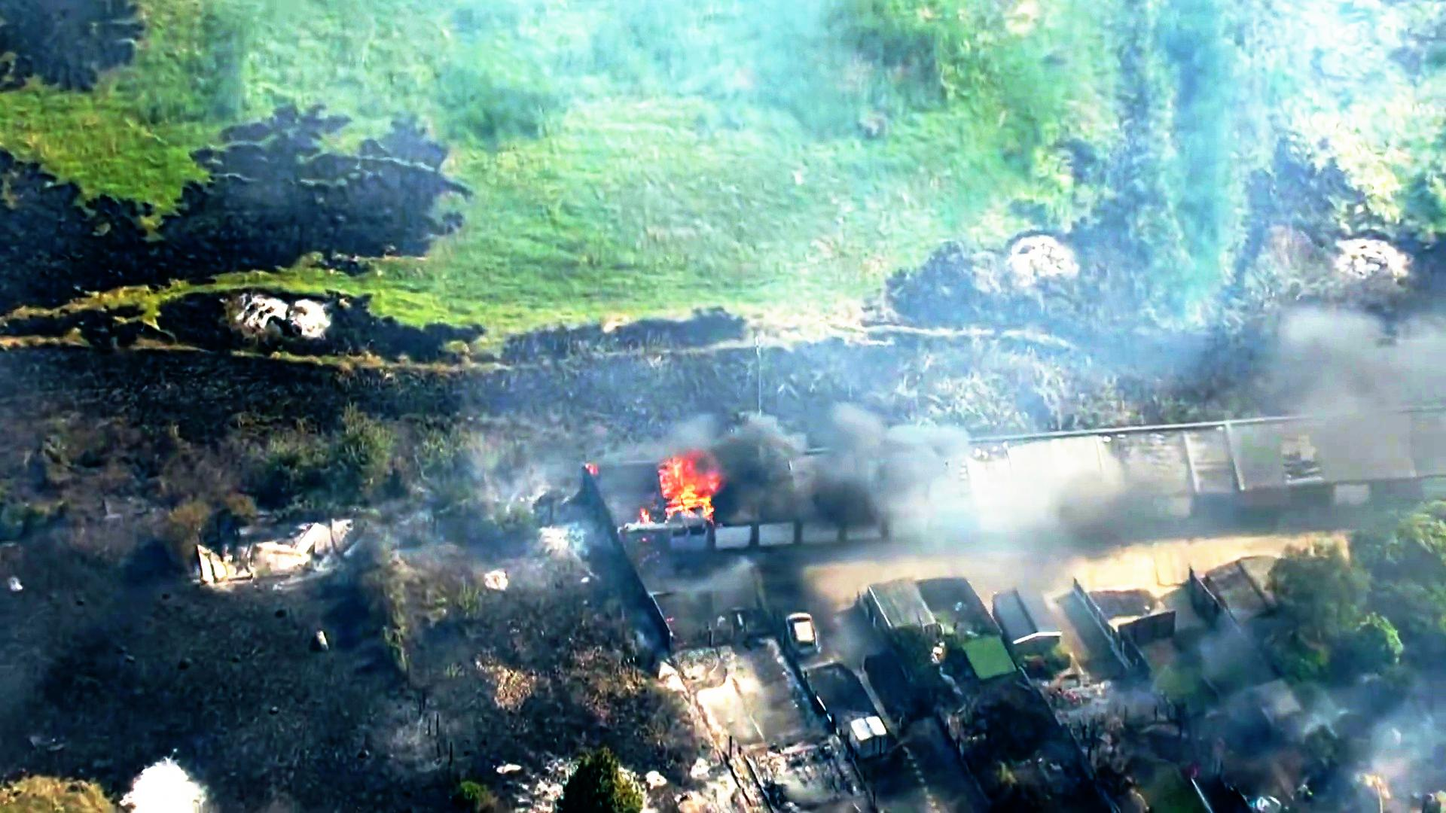fire: (646, 463, 733, 527)
smoke: (1271, 311, 1446, 473), (706, 416, 915, 514)
